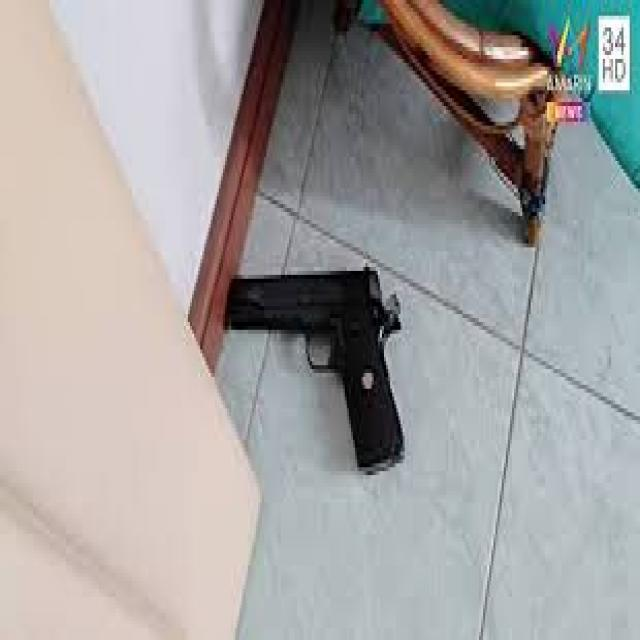semi automatic: (216, 248, 418, 489)
